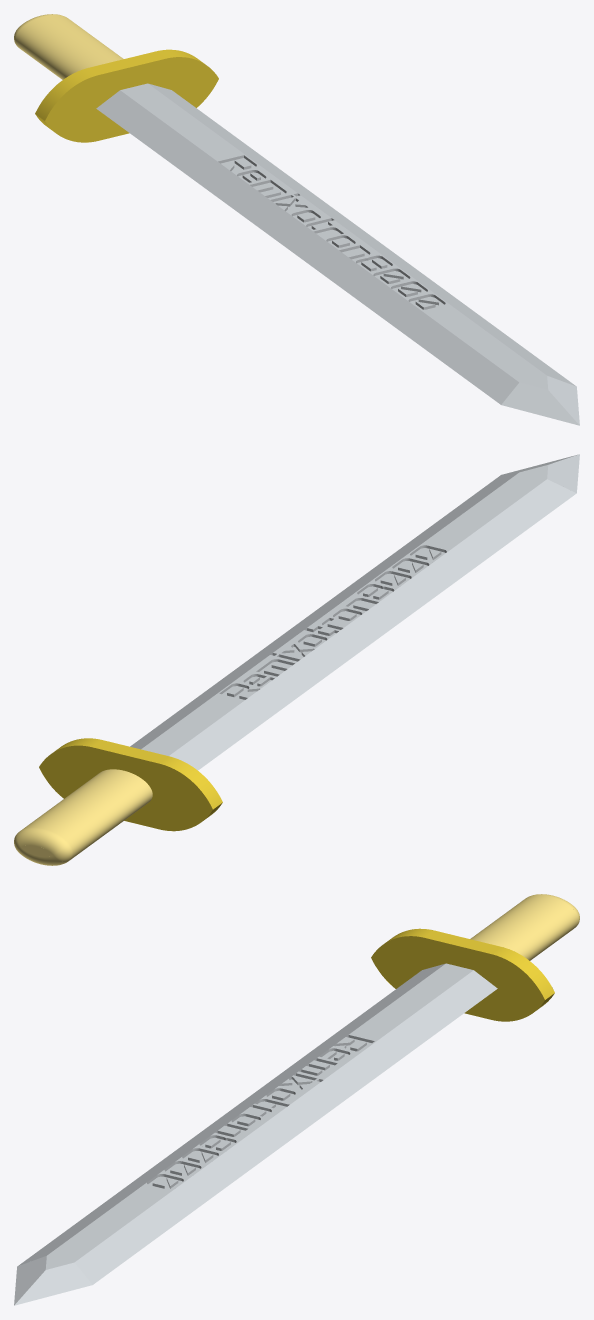
Rendered from gold-sword.glb.
3 views of the same model, one above another, from view 1: azimuth 30°, elevation 25°; view 2: azimuth 150°, elevation 25°; view 3: azimuth 330°, elevation 25° (orthographic).
Visible parts, largest first — view 1: Part 1, Part 2, Part 3; view 2: Part 1, Part 2, Part 3; view 3: Part 1, Part 2, Part 3.
Part boxes in pixels (x1,y1,x2,y2): Part 1: [96, 83, 579, 425]; Part 2: [35, 49, 218, 142]; Part 3: [14, 14, 123, 79]; Part 1: [130, 454, 579, 770]; Part 2: [39, 738, 222, 831]; Part 3: [14, 769, 152, 865]; Part 1: [14, 963, 497, 1305]; Part 2: [371, 928, 554, 1021]; Part 3: [470, 894, 579, 960].
Size of the model in its own units: 0.0674 by 0.0243 by 0.3635.
